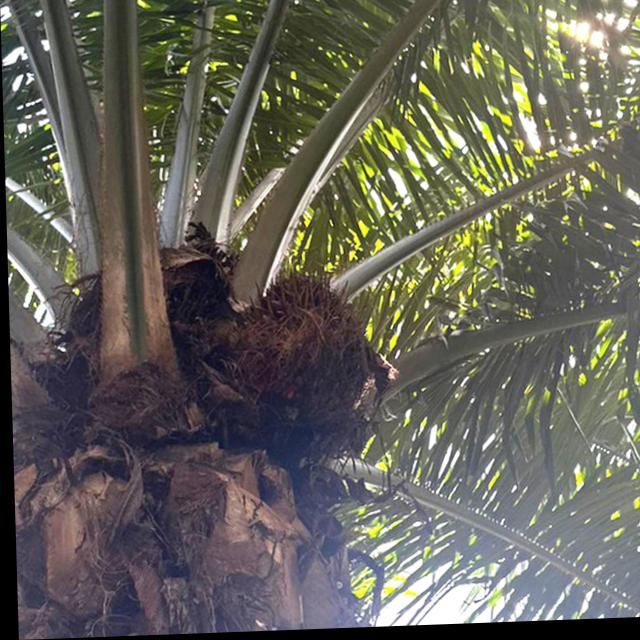ripe: (225, 266, 376, 425)
